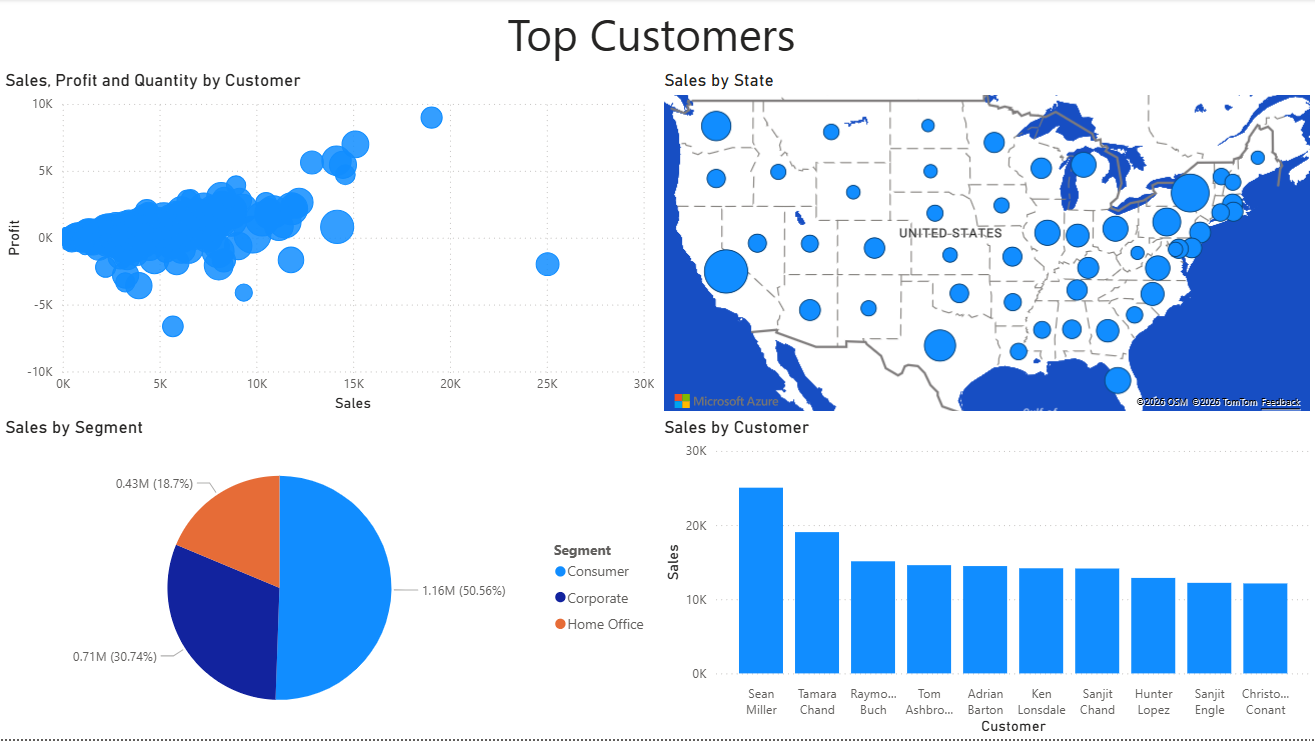

This screenshot's page, from the dashboard's own definition file:
{"tool":"powerbi","page":{"name":"Customers/Geography ","canvas":[1280,720],"ordinal":2},"visuals":[{"type":"pieChart","title":"Sales by Segment","fields":{"Category":["DimCustomer.Segment"],"Y":["Sum(FactOrders.Sales)"]},"box":[0,406.3,640.6,313.7],"z":0},{"type":"azureMap","title":"Sales by State","fields":{"Category":["DimRegion.State"],"Size":["Sum(FactOrders.Sales)"]},"box":[641,69.1,638.1,337.5],"z":1000},{"type":"clusteredColumnChart","title":"Sales by Customer","fields":{"Category":["DimCustomer.Customer Name"],"Y":["Sum(FactOrders.Sales)"]},"box":[640.6,406.3,638.7,313.7],"z":2000},{"type":"scatterChart","title":"Sales, Profit and Quantity by Customer","fields":{"X":["Sum(FactOrders.Sales)"],"Y":["Sum(FactOrders.Profit)"],"Size":["Sum(FactOrders.Quantity)"],"Category":["DimCustomer.Customer Name"]},"box":[0,69.1,641,336.5],"z":3000},{"type":"textbox","box":[0,0,1279,69.1],"z":4000}]}

Visuals, with their boxes in screenshot pixels (x1, y1, x2, y2), scaled from the page's 1280x720 canvas onto the 1315x741 screenshot:
"Sales by Segment" pieChart: select_region(0, 418, 658, 740)
"Sales by State" azureMap: select_region(659, 71, 1314, 418)
"Sales by Customer" clusteredColumnChart: select_region(658, 418, 1314, 740)
"Sales, Profit and Quantity by Customer" scatterChart: select_region(0, 71, 659, 417)
textbox: select_region(0, 0, 1314, 71)
